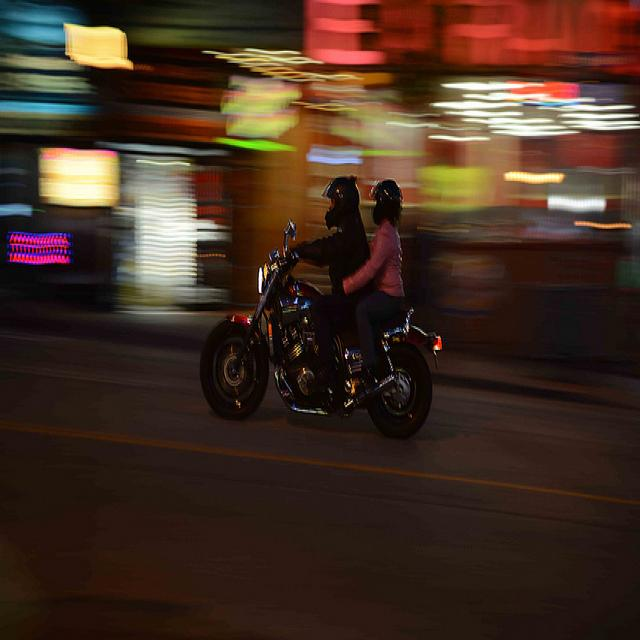Motorbike: (203, 249, 479, 473)
